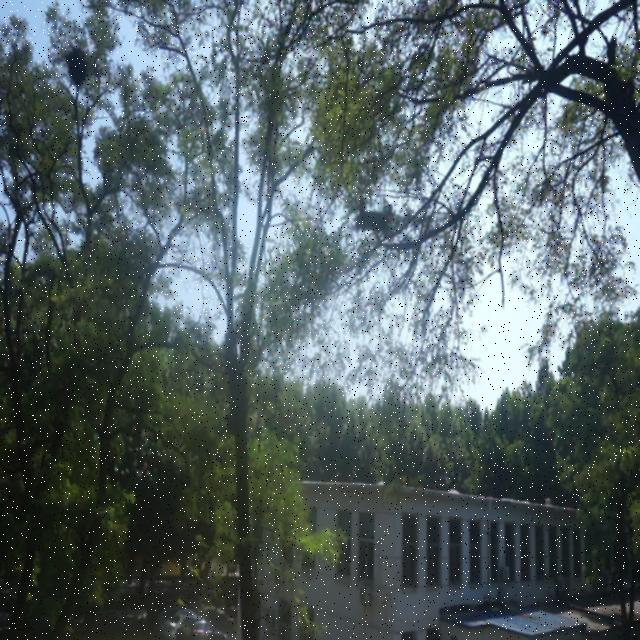UAV: (355, 202, 392, 230)
